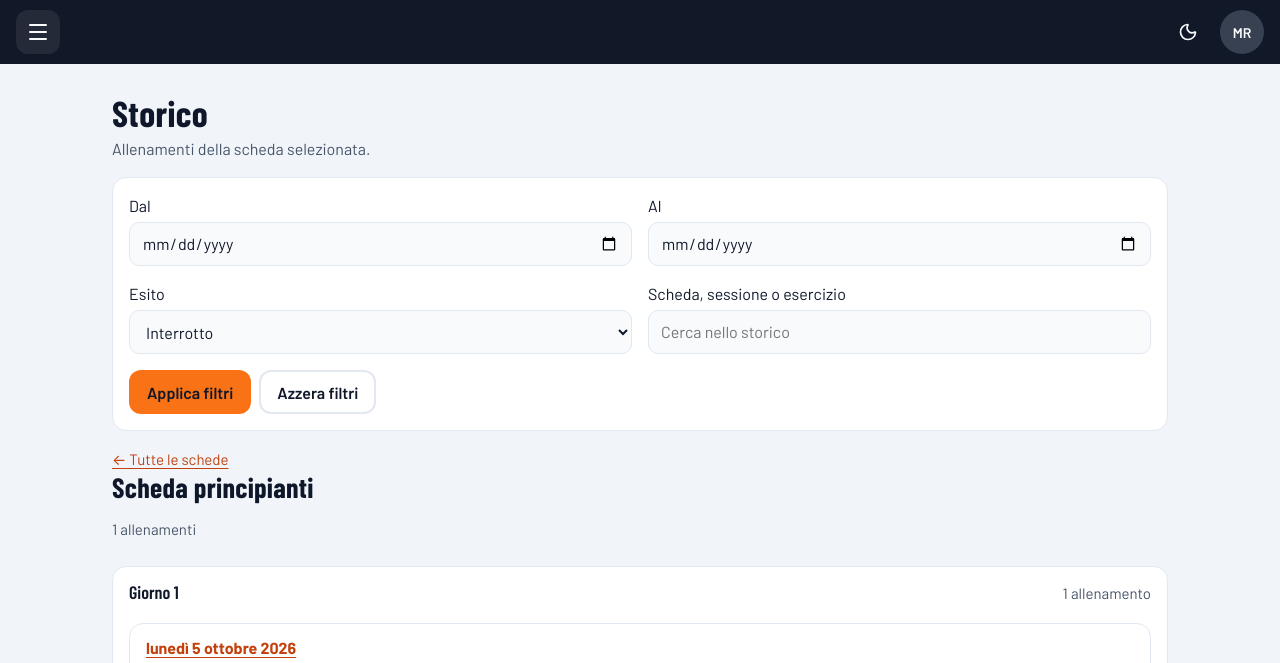
Test: recorded volume › uses the server summary in the filtered list and per-exercise detail after reopening
Click the 3rd link at [221, 648], box [146, 638, 296, 657]
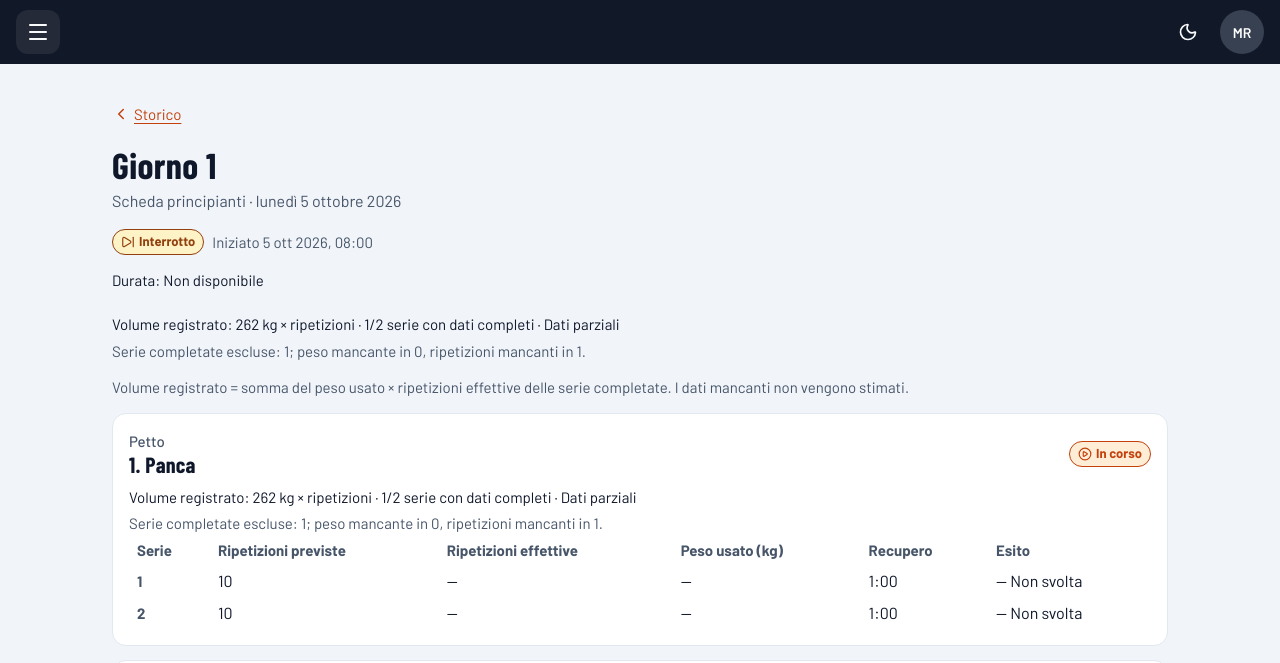
Expected: the text "Volume registrato: 262 kg × ripetizioni" below "Panca" is shown, [129, 488, 372, 506]
Now the text "Serie completate escluse: 1" below "Panca" is shown, box [129, 514, 603, 532]
